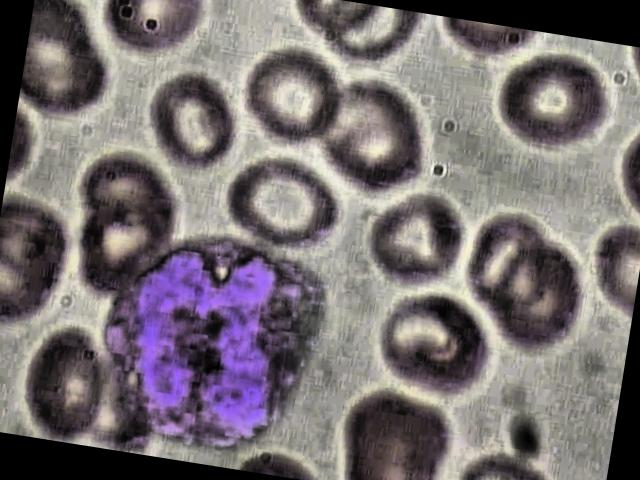RBC: (302, 69, 442, 205), (354, 280, 503, 404), (481, 43, 628, 157), (218, 150, 358, 260), (1, 318, 114, 446), (234, 42, 356, 158), (356, 184, 478, 300), (452, 207, 567, 322), (134, 61, 246, 179), (336, 386, 458, 480), (0, 188, 79, 330), (96, 0, 213, 66)
WBC: (85, 213, 354, 465)
